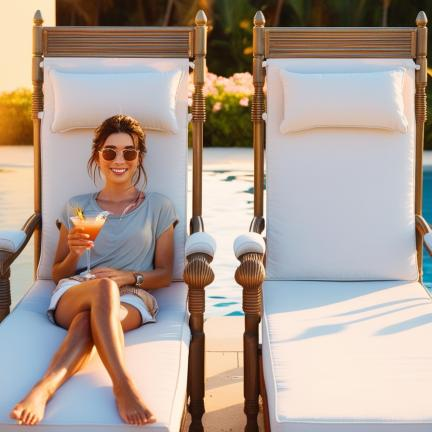empty chair: (235, 12, 432, 432)
guest on chair: (0, 12, 215, 432)
